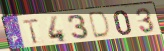0: (113, 10, 133, 37)
3: (66, 14, 90, 41), (135, 6, 154, 34)
4: (48, 15, 68, 43)
D: (88, 11, 111, 40)
T: (21, 18, 41, 45)
